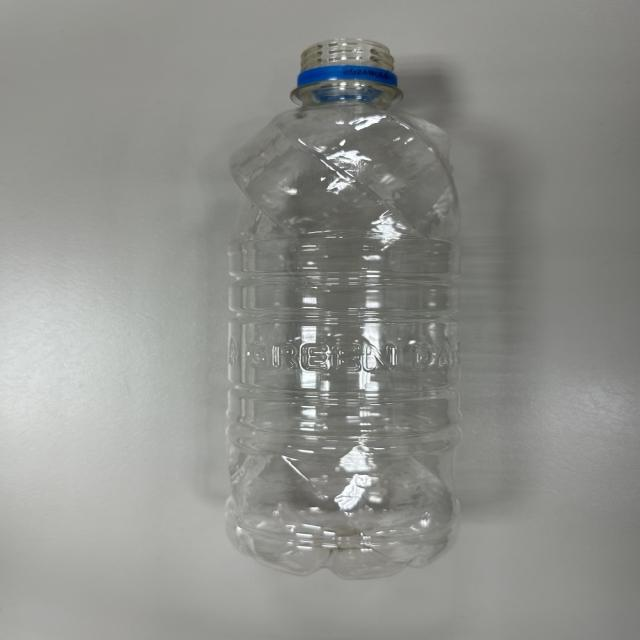Transparent Plastic Bottle: (227, 41, 465, 574)
